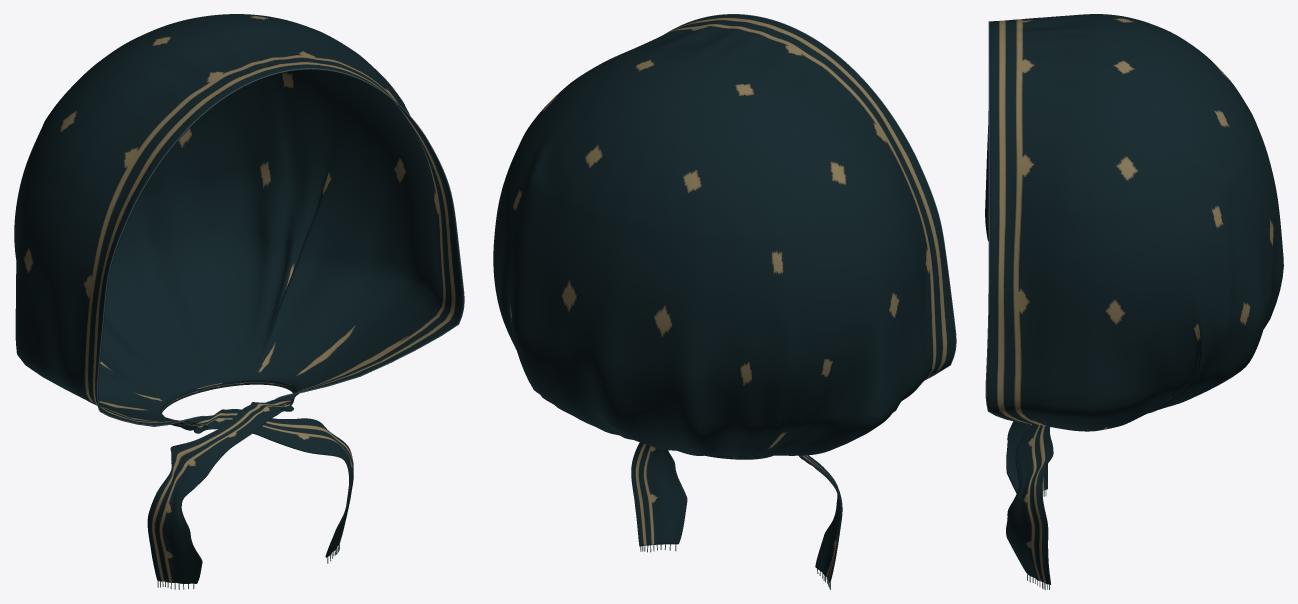
The model's file is Feminine-strappy-pashmina246-headgear.glb.
3 renders of one model, left to right at view 1: azimuth 30°, elevation 25°; view 2: azimuth 150°, elevation 25°; view 3: azimuth 270°, elevation 25°, orthographic. The views are drawn at different scales.
Visible parts, largest first — view 1: 226 headgear / Headwear / continuous woven pashmina239, 226 headgear / Headwear / face edge239; view 2: 226 headgear / Headwear / continuous woven pashmina239, 226 headgear / Headwear / face edge239; view 3: 226 headgear / Headwear / continuous woven pashmina239, 226 headgear / Headwear / face edge239.
Boxes of the visible parts, x1,y1,x2,y2 form: 226 headgear / Headwear / continuous woven pashmina239: (14,14,463,583); 226 headgear / Headwear / face edge239: (96,68,464,426); 226 headgear / Headwear / continuous woven pashmina239: (493,14,955,583); 226 headgear / Headwear / face edge239: (664,14,956,379); 226 headgear / Headwear / continuous woven pashmina239: (985,14,1283,584); 226 headgear / Headwear / face edge239: (985,21,1028,423).
Size of the model in its own units: 1.02 by 1.35 by 0.7116.
3 materials, 1 textured.
